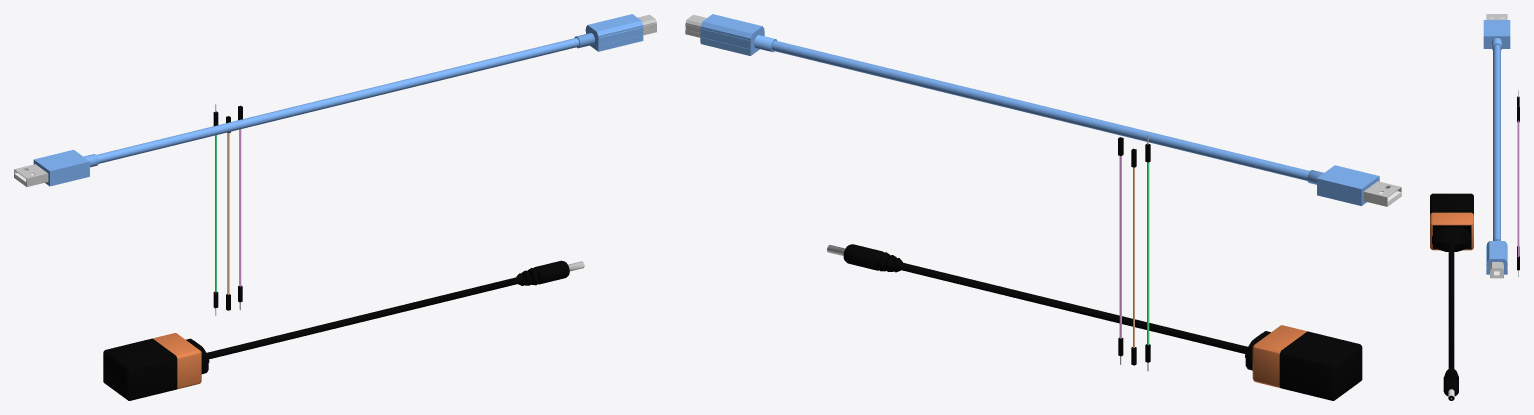
Rendered from cables.fbx.
3 renders of one model, left to right at view 1: azimuth 30°, elevation 25°; view 2: azimuth 150°, elevation 25°; view 3: azimuth 270°, elevation 25°, orthographic. The views are drawn at different scales.
Parts seen in each view (by area): view 1: Cable alimentación.003, USB A/B, Cable alimentación, USB A/B.003, USB A/B.002, Cable alimentación.002; view 2: Cable alimentación.003, USB A/B, Cable alimentación, USB A/B.003, USB A/B.002, Cable alimentación.002; view 3: Cable alimentación.003, USB A/B, USB A/B.003, Cable alimentación, USB A/B.002, Cable alimentación.002, DuPontMH.
Part boxes in pixels (x1,y1,x2,y2): Cable alimentación.003: [103, 333, 211, 400]; USB A/B: [96, 38, 579, 163]; Cable alimentación: [129, 276, 524, 400]; USB A/B.003: [14, 149, 98, 186]; USB A/B.002: [574, 14, 656, 51]; Cable alimentación.002: [517, 260, 584, 285]; Cable alimentación.003: [1242, 325, 1362, 400]; USB A/B: [771, 40, 1309, 180]; Cable alimentación: [898, 261, 1243, 353]; USB A/B.003: [1307, 165, 1401, 206]; USB A/B.002: [685, 14, 777, 55]; Cable alimentación.002: [827, 244, 901, 272]; Cable alimentación.003: [1430, 193, 1473, 251]; USB A/B: [1493, 44, 1500, 240]; USB A/B.003: [1483, 14, 1510, 50]; Cable alimentación: [1448, 244, 1454, 399]; USB A/B.002: [1486, 239, 1507, 278]; Cable alimentación.002: [1443, 368, 1458, 400]; DuPontMH: [1517, 120, 1519, 257].
Size of the model in its own units: 39082 by 13340 by 5775.
